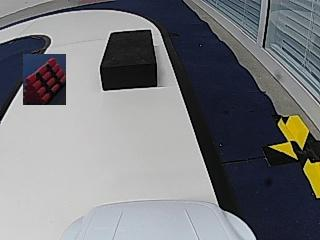block: (100, 29, 157, 90)
